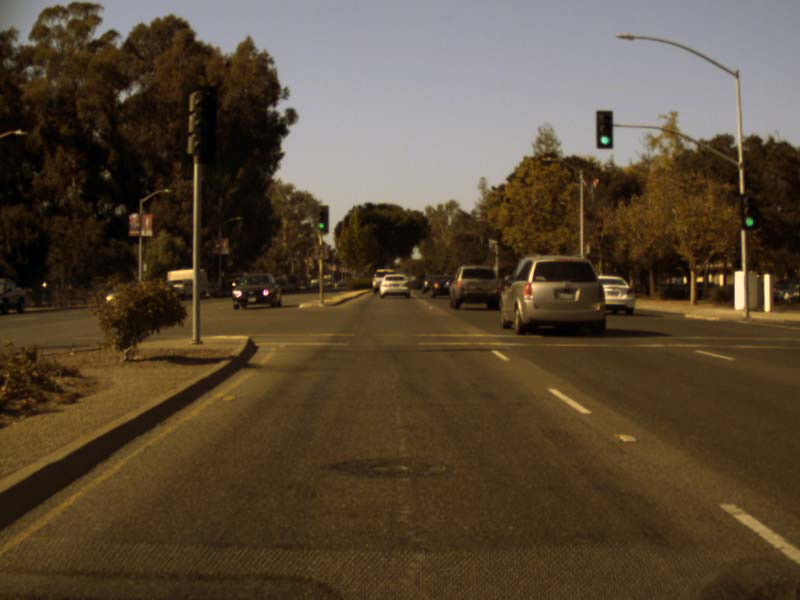Green: (596, 110, 612, 148), (740, 194, 757, 228), (317, 205, 327, 232)
